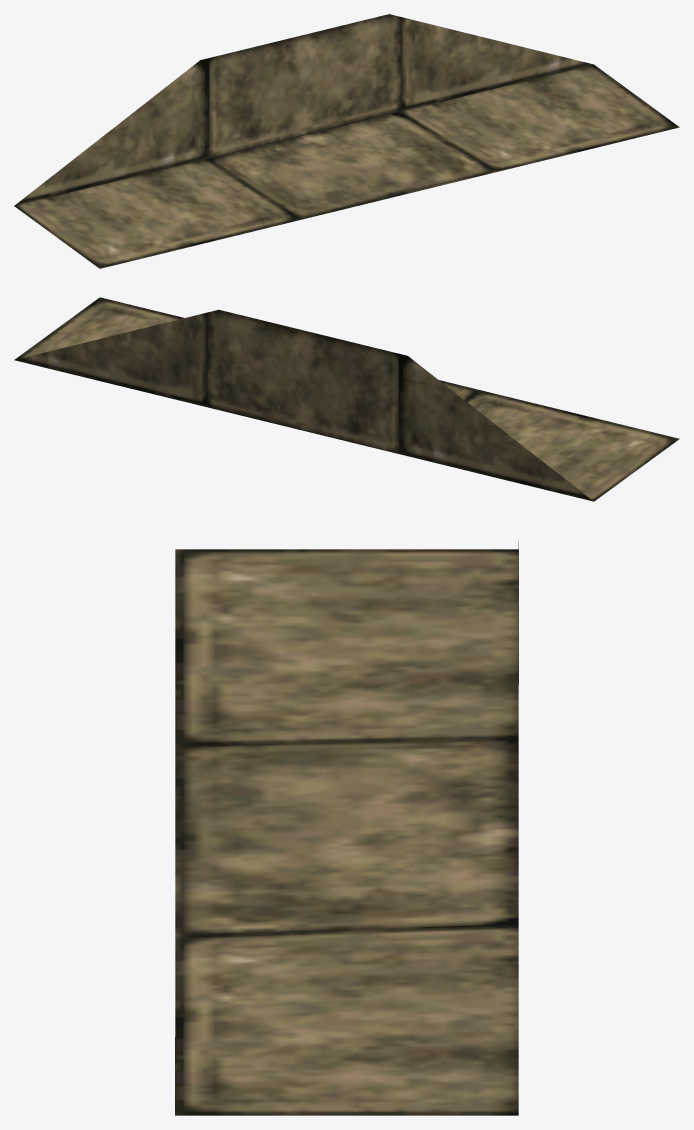
File: OVERHILL_A_01_OBJECT375.fbx
3 renders of one model, top to bottom at view 1: azimuth 30°, elevation 25°; view 2: azimuth 150°, elevation 25°; view 3: azimuth 270°, elevation 25°, orthographic. The views are drawn at different scales.
Parts seen in each view (by area): view 1: OVERHILL_A_01_OBJECT375; view 2: OVERHILL_A_01_OBJECT375; view 3: OVERHILL_A_01_OBJECT375.
Boxes of the visible parts, x1=… form: OVERHILL_A_01_OBJECT375: x1=14, y1=14, x2=679, y2=268; OVERHILL_A_01_OBJECT375: x1=14, y1=297, x2=679, y2=501; OVERHILL_A_01_OBJECT375: x1=175, y1=541, x2=518, y2=1115.
Bounding box in the file's own units: 32635 × 5399 × 8373.
1 material, 1 textured.
